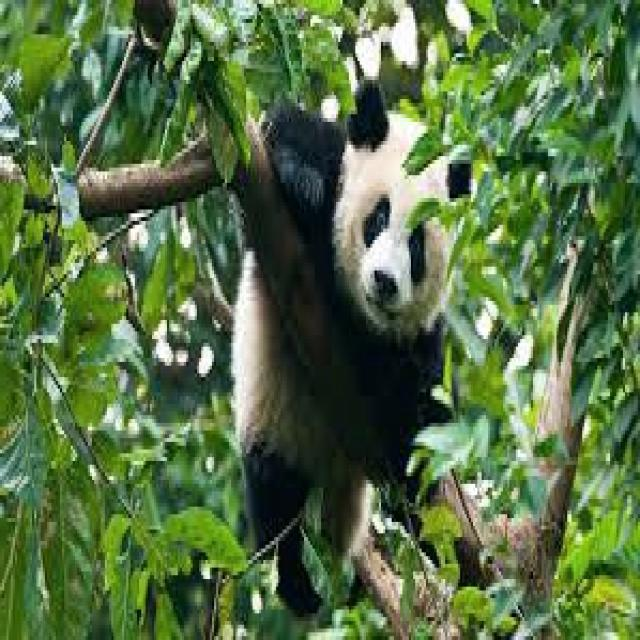panda: (233, 80, 471, 610)
